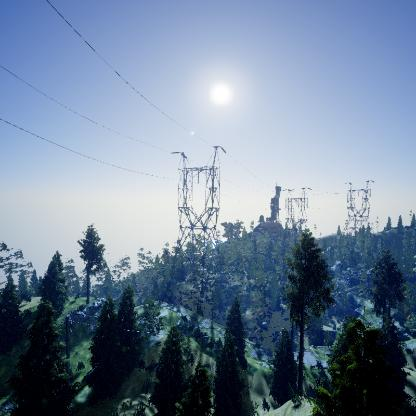tower: (169, 145, 229, 301), (342, 177, 374, 232), (281, 187, 313, 235)
